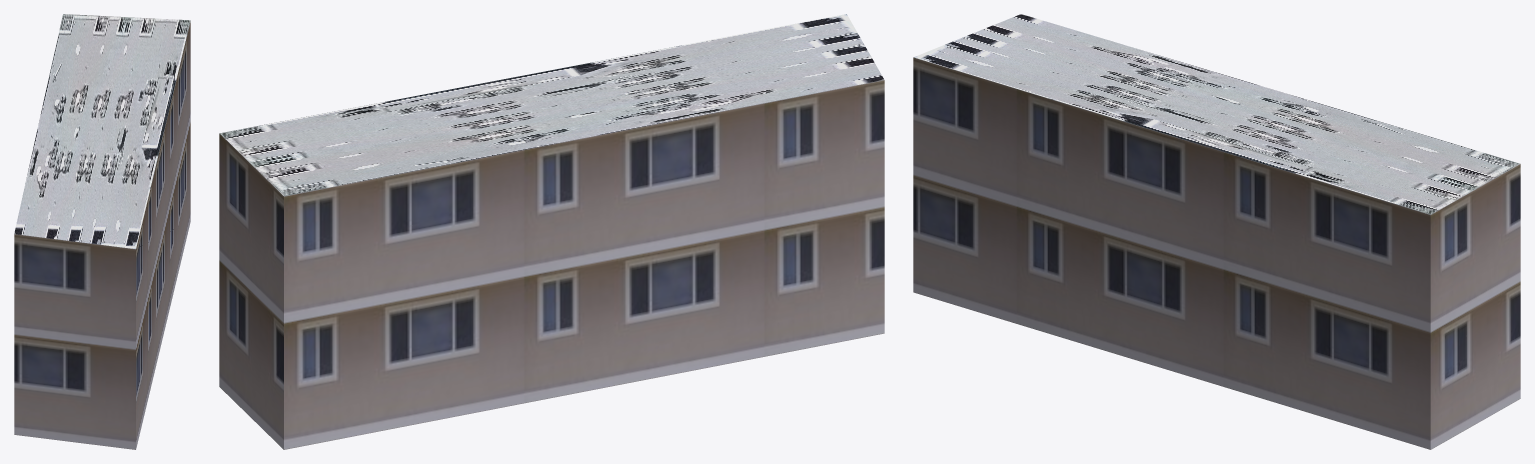
Rendered from ResTex__4499.fbx.
The picture shows the model from 3 angles, left to right: view 1: azimuth 30°, elevation 25°; view 2: azimuth 150°, elevation 25°; view 3: azimuth 270°, elevation 25°; orthographic projection. The views are drawn at different scales.
Visible parts, largest first — view 1: CityEngineMaterial_21_m, CityEngineMaterial_m; view 2: CityEngineMaterial_21_m, CityEngineMaterial_m; view 3: CityEngineMaterial_21_m, CityEngineMaterial_m.
Part boxes in pixels (x1=…): CityEngineMaterial_21_m: x1=14, y1=22, x2=190, y2=449; CityEngineMaterial_m: x1=14, y1=14, x2=190, y2=248; CityEngineMaterial_21_m: x1=219, y1=80, x2=884, y2=449; CityEngineMaterial_m: x1=220, y1=14, x2=884, y2=196; CityEngineMaterial_21_m: x1=913, y1=57, x2=1520, y2=449; CityEngineMaterial_m: x1=914, y1=14, x2=1519, y2=214.
Bounding box in the file's own units: 10.99 × 6 × 14.04.
Materials: 2 (2 with a texture image).
